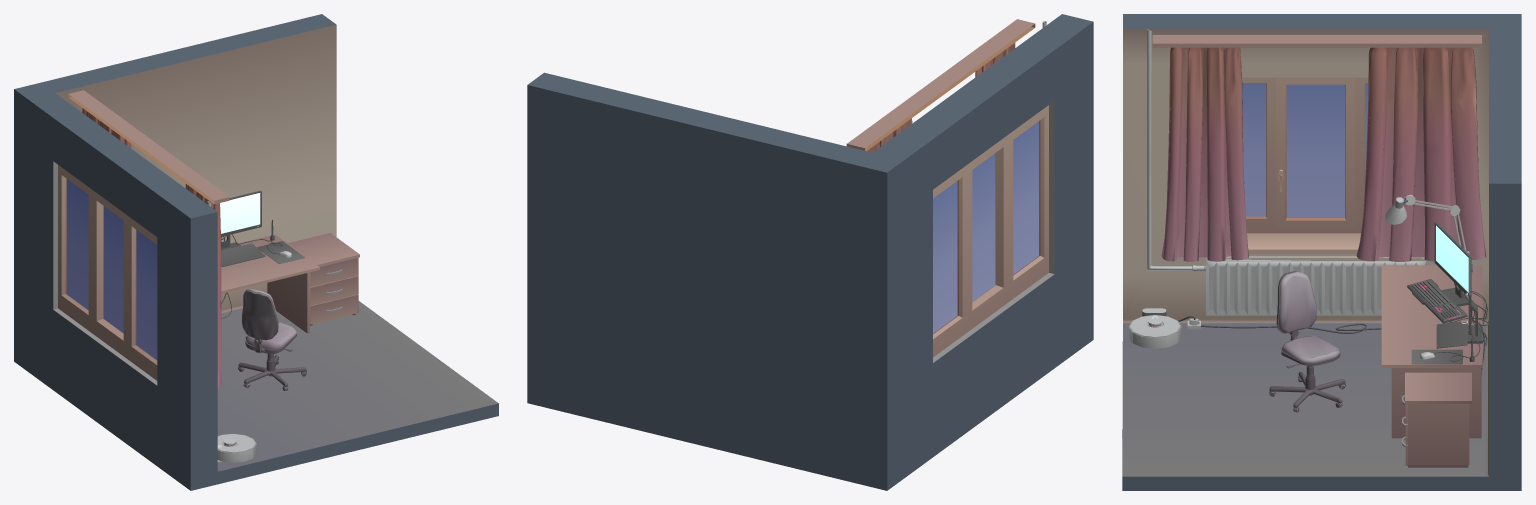
Rendered from optimized-optimized-room.glb.
The picture shows the model from 3 angles, left to right: view 1: azimuth 30°, elevation 25°; view 2: azimuth 150°, elevation 25°; view 3: azimuth 270°, elevation 25°; orthographic projection. The views are drawn at different scales.
Visible parts, largest first — view 1: body1, window4, window, table, cabin, railing, chair_body, emis, _________6_blinn1_0, vacuum1, pillows, tablet (+1 smaller); view 2: body1, window4, window, railing; view 3: body1, _________6_blinn1_0, window4, window, radiator, table, cabin, railing, pillows, vacuum1, chair_body, radiator_blinn1_0.001 (+8 smaller).
Part boxes in pixels (x1,y1,x2,y2): body1: [14, 14, 498, 490]; window4: [66, 179, 157, 359]; window: [58, 165, 157, 380]; table: [221, 234, 319, 333]; cabin: [287, 233, 359, 325]; railing: [68, 90, 229, 204]; chair_body: [238, 290, 306, 390]; emis: [218, 193, 281, 447]; _________6_blinn1_0: [82, 108, 222, 387]; vacuum1: [217, 434, 256, 462]; pillows: [245, 289, 296, 349]; tablet: [221, 243, 265, 266]; body1: [527, 14, 1093, 490]; window4: [933, 121, 1039, 333]; window: [933, 105, 1048, 357]; railing: [846, 19, 1035, 151]; body1: [1122, 14, 1521, 490]; _________6_blinn1_0: [1161, 47, 1486, 261]; window4: [1242, 83, 1370, 217]; window: [1242, 77, 1376, 253]; radiator: [1206, 256, 1426, 315]; table: [1381, 265, 1482, 438]; cabin: [1405, 372, 1471, 467]; railing: [1152, 35, 1481, 47]; pillows: [1278, 271, 1339, 362]; vacuum1: [1128, 308, 1198, 348]; chair_body: [1269, 271, 1345, 412]; radiator_blinn1_0.001: [1147, 29, 1205, 271].
Size of the model in its own units: 6.68 by 5.66 by 6.65.
